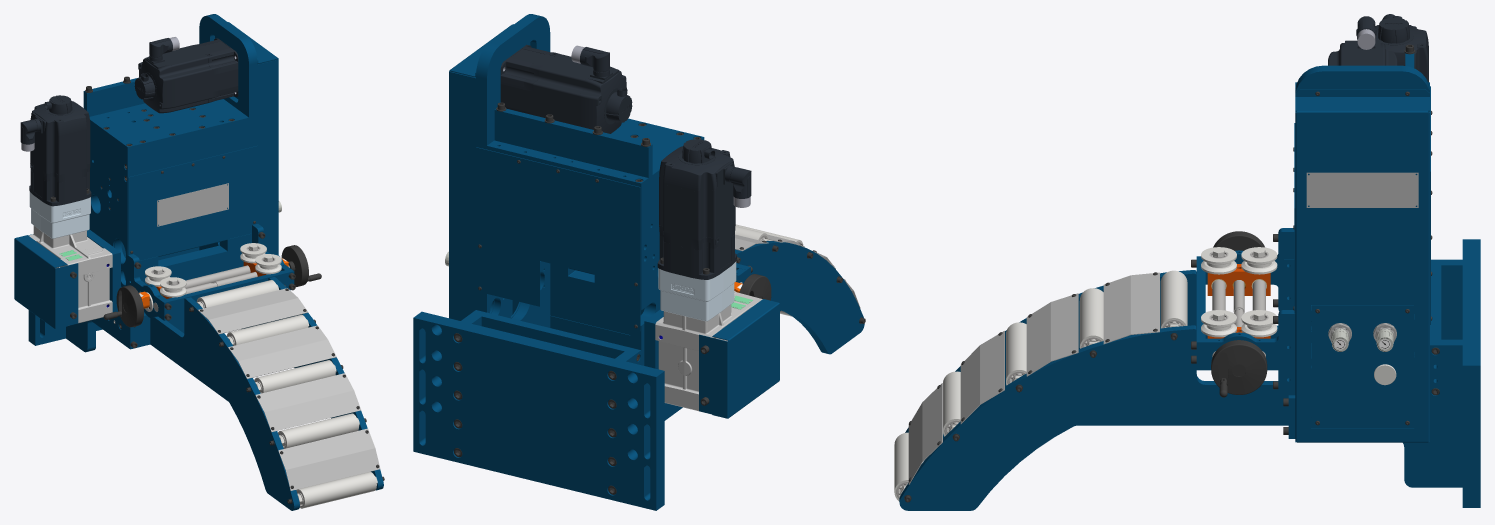
3 renders of one model, left to right at view 1: azimuth 30°, elevation 25°; view 2: azimuth 150°, elevation 25°; view 3: azimuth 270°, elevation 25°, orthographic. The views are drawn at different scales.
Parts seen in each view (by area): view 1: Solido1.018, Solido1.014, Solido1.068, Solido1.067, Solido1.005, Solido1.006, Solido1.073, Solido1.012, Solido1.037, Solido1.036, Solido1.066, Solido1.035 (+22 smaller); view 2: Solido1.007, Solido1.015, Solido1.068, Solido1.067, Solido1.018, Solido1.012, Solido1.073, Solido1.004, Solido1.003, Solido1.066, Solido1.006, Solido1.005 (+5 smaller); view 3: Solido1.012, Solido1.018, Solido1.013, Solido1.004, Solido1.007, Solido1.070, Solido1.034, Solido1.035, Solido1.036, Solido1.040, Solido1.047, Solido1.037 (+16 smaller).
Boxes of the visible parts, box(x1,y1,x2,y2) form: Solido1.018: box(127, 269, 383, 510); Solido1.014: box(128, 145, 257, 260); Solido1.068: box(20, 95, 91, 206); Solido1.067: box(134, 37, 238, 113); Solido1.005: box(66, 127, 136, 352); Solido1.006: box(89, 99, 248, 154); Solido1.073: box(14, 234, 78, 329); Solido1.012: box(228, 22, 278, 254); Solido1.037: box(278, 428, 380, 490); Solido1.036: box(255, 373, 360, 432); Solido1.066: box(28, 225, 112, 323); Solido1.035: box(228, 325, 336, 378); Solido1.007: box(413, 311, 664, 510); Solido1.015: box(476, 147, 640, 331); Solido1.068: box(657, 139, 751, 279); Solido1.067: box(500, 44, 632, 133); Solido1.018: box(550, 241, 864, 354); Solido1.012: box(449, 24, 518, 320); Solido1.073: box(699, 299, 779, 418); Solido1.004: box(461, 14, 550, 327); Solido1.003: box(494, 108, 652, 177); Solido1.066: box(655, 291, 762, 411); Solido1.006: box(487, 118, 704, 192); Solido1.005: box(615, 180, 682, 420); Solido1.012: box(1295, 89, 1429, 442); Solido1.018: box(899, 256, 1295, 510); Solido1.013: box(1311, 305, 1413, 428); Solido1.004: box(1295, 65, 1462, 487); Solido1.007: box(1462, 239, 1480, 507); Solido1.070: box(1306, 172, 1418, 207); Solido1.034: box(1103, 272, 1159, 344); Solido1.035: box(1026, 293, 1078, 376); Solido1.036: box(960, 331, 1004, 423); Solido1.040: box(1205, 310, 1295, 395); Solido1.047: box(1211, 340, 1267, 394); Solido1.037: box(908, 383, 942, 484).
Bounding box in the file's own units: 0.8306 × 1.12 × 1.31.
31 materials, 1 textured.
